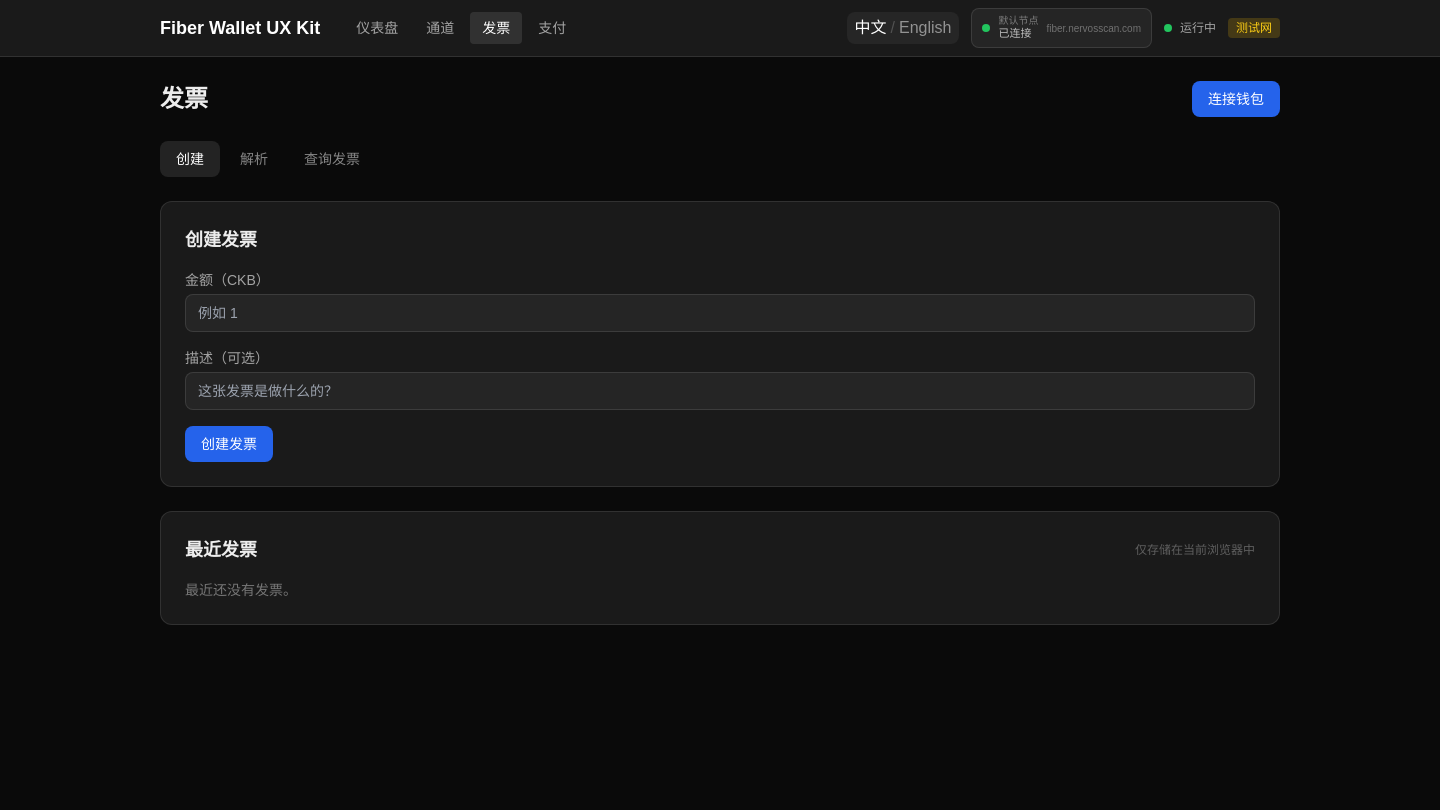
it: Invoices and Payments pages › renders localized zh invoices headings through the real locale layout
Expected: the heading "发票" is shown, [160,83,208,115]
Expected: the heading "创建发票" is shown, [185,230,257,250]
Click the button "查询发票".
click(332, 159)  # box [288,141,376,177]
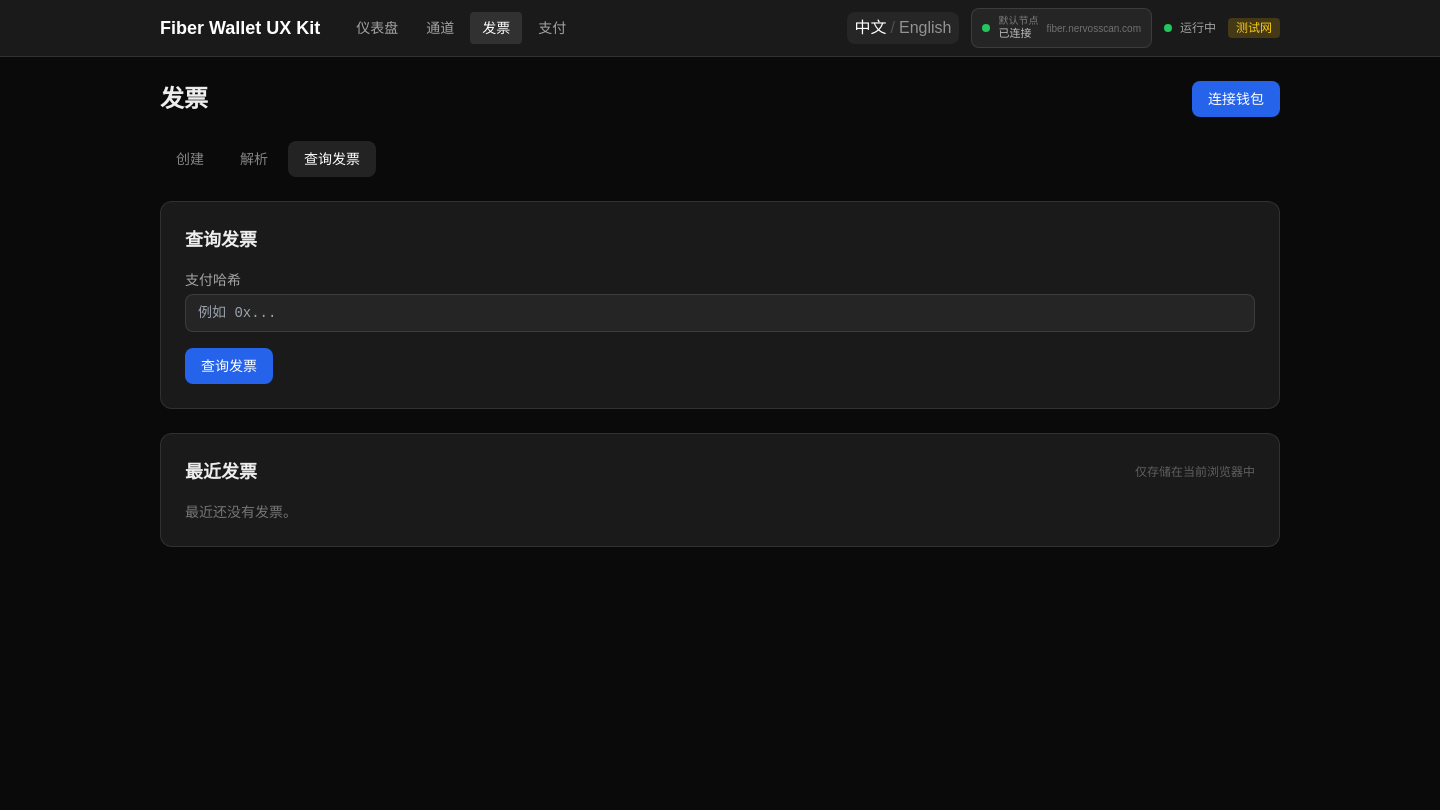
Now the field with placeholder "例如 0x..." is shown, box [185,294,1255,332]
